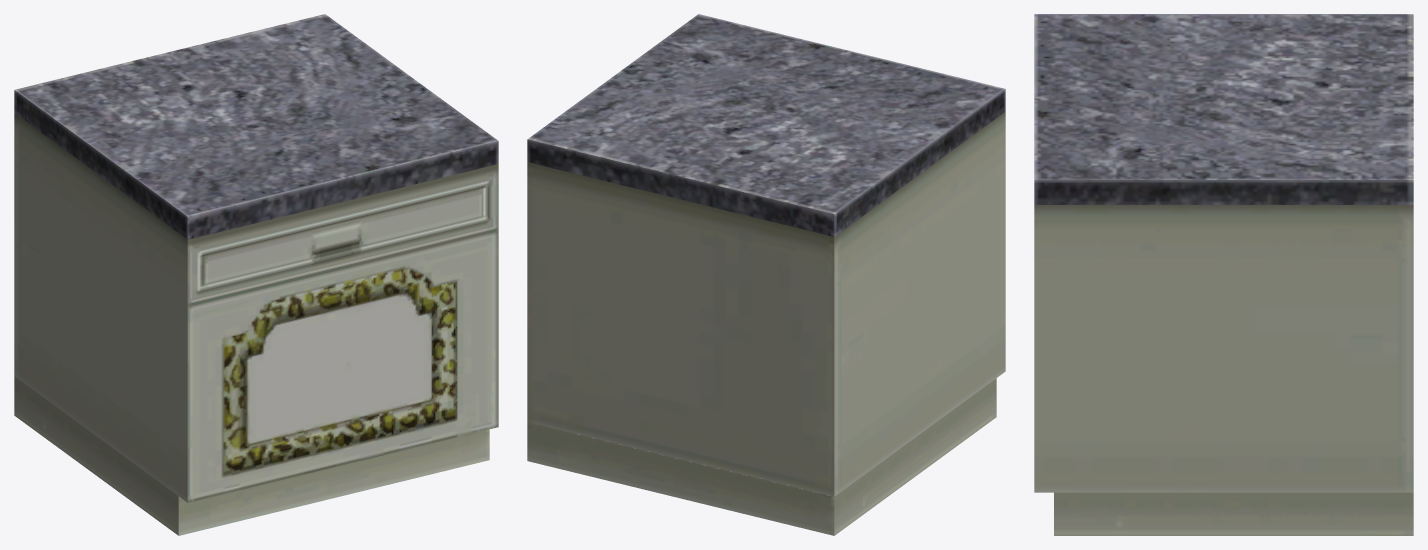
Rendered from furni_0200087_01.FBX.
3 renders of one model, left to right at view 1: azimuth 30°, elevation 25°; view 2: azimuth 150°, elevation 25°; view 3: azimuth 270°, elevation 25°, orthographic. The views are drawn at different scales.
Visible parts, largest first — view 1: furni_0200087_01; view 2: furni_0200087_01; view 3: furni_0200087_01.
Boxes of the visible parts, left/top/right/bottom form: furni_0200087_01: left=14, top=14, right=498, bottom=535; furni_0200087_01: left=527, top=14, right=1005, bottom=535; furni_0200087_01: left=1034, top=14, right=1413, bottom=535.
Size of the model in its own units: 79.88 by 80 by 77.2.
Materials: 1 (1 with a texture image).
